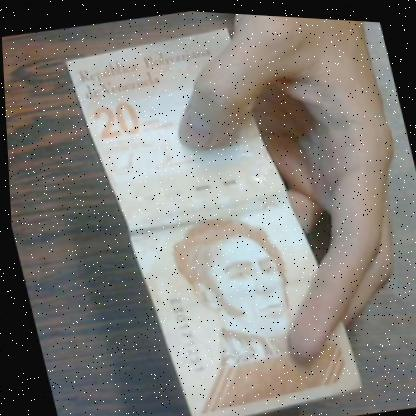twenty-front-vef: (65, 21, 364, 416)
